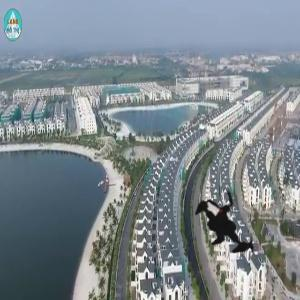drone: (176, 169, 286, 279)
